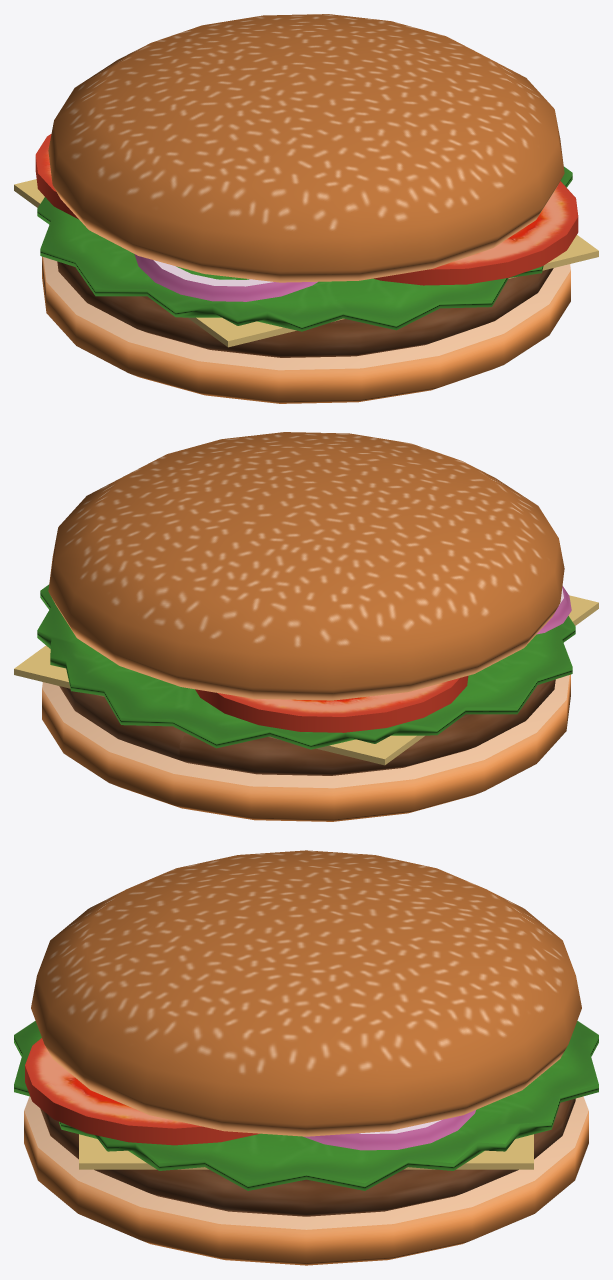
File: hamburger_complete.fbx
3 renders of one model, top to bottom at view 1: azimuth 30°, elevation 25°; view 2: azimuth 150°, elevation 25°; view 3: azimuth 270°, elevation 25°, orthographic. The views are drawn at different scales.
Visible parts, largest first — view 1: hambuger_complete; view 2: hambuger_complete; view 3: hambuger_complete.
Part boxes in pixels (x1,y1,x2,y2): hambuger_complete: (14, 14, 598, 403); hambuger_complete: (14, 432, 598, 821); hambuger_complete: (14, 850, 598, 1265).
Bounding box in the file's own units: 11.5 × 5.18 × 11.5.
